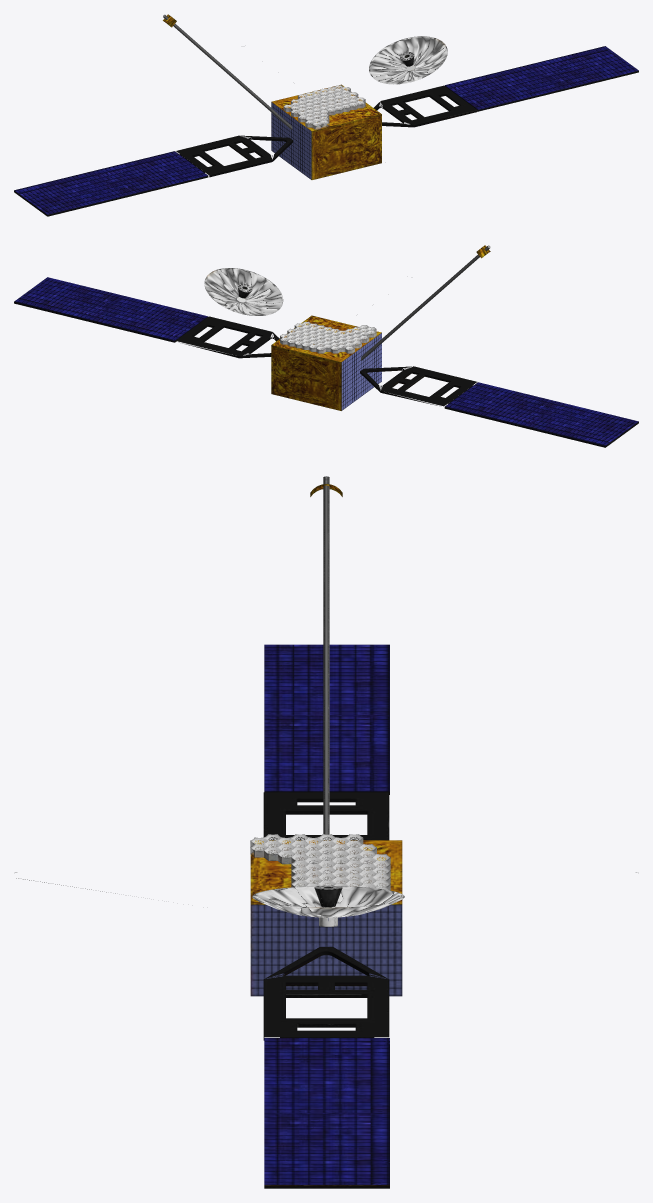
The model's file is tdrs.glb.
3 renders of one model, top to bottom at view 1: azimuth 30°, elevation 25°; view 2: azimuth 150°, elevation 25°; view 3: azimuth 270°, elevation 25°, orthographic. The views are drawn at different scales.
Visible parts, largest first — view 1: tdrs_no_an; view 2: tdrs_no_an; view 3: tdrs_no_an.
Part boxes in pixels (x1,y1,x2,y2): tdrs_no_an: [14, 14, 638, 216]; tdrs_no_an: [14, 245, 638, 447]; tdrs_no_an: [15, 476, 636, 1188].
Size of the model in its own units: 40.73 by 11.95 by 19.91.
Materials: 11 (11 with a texture image).
